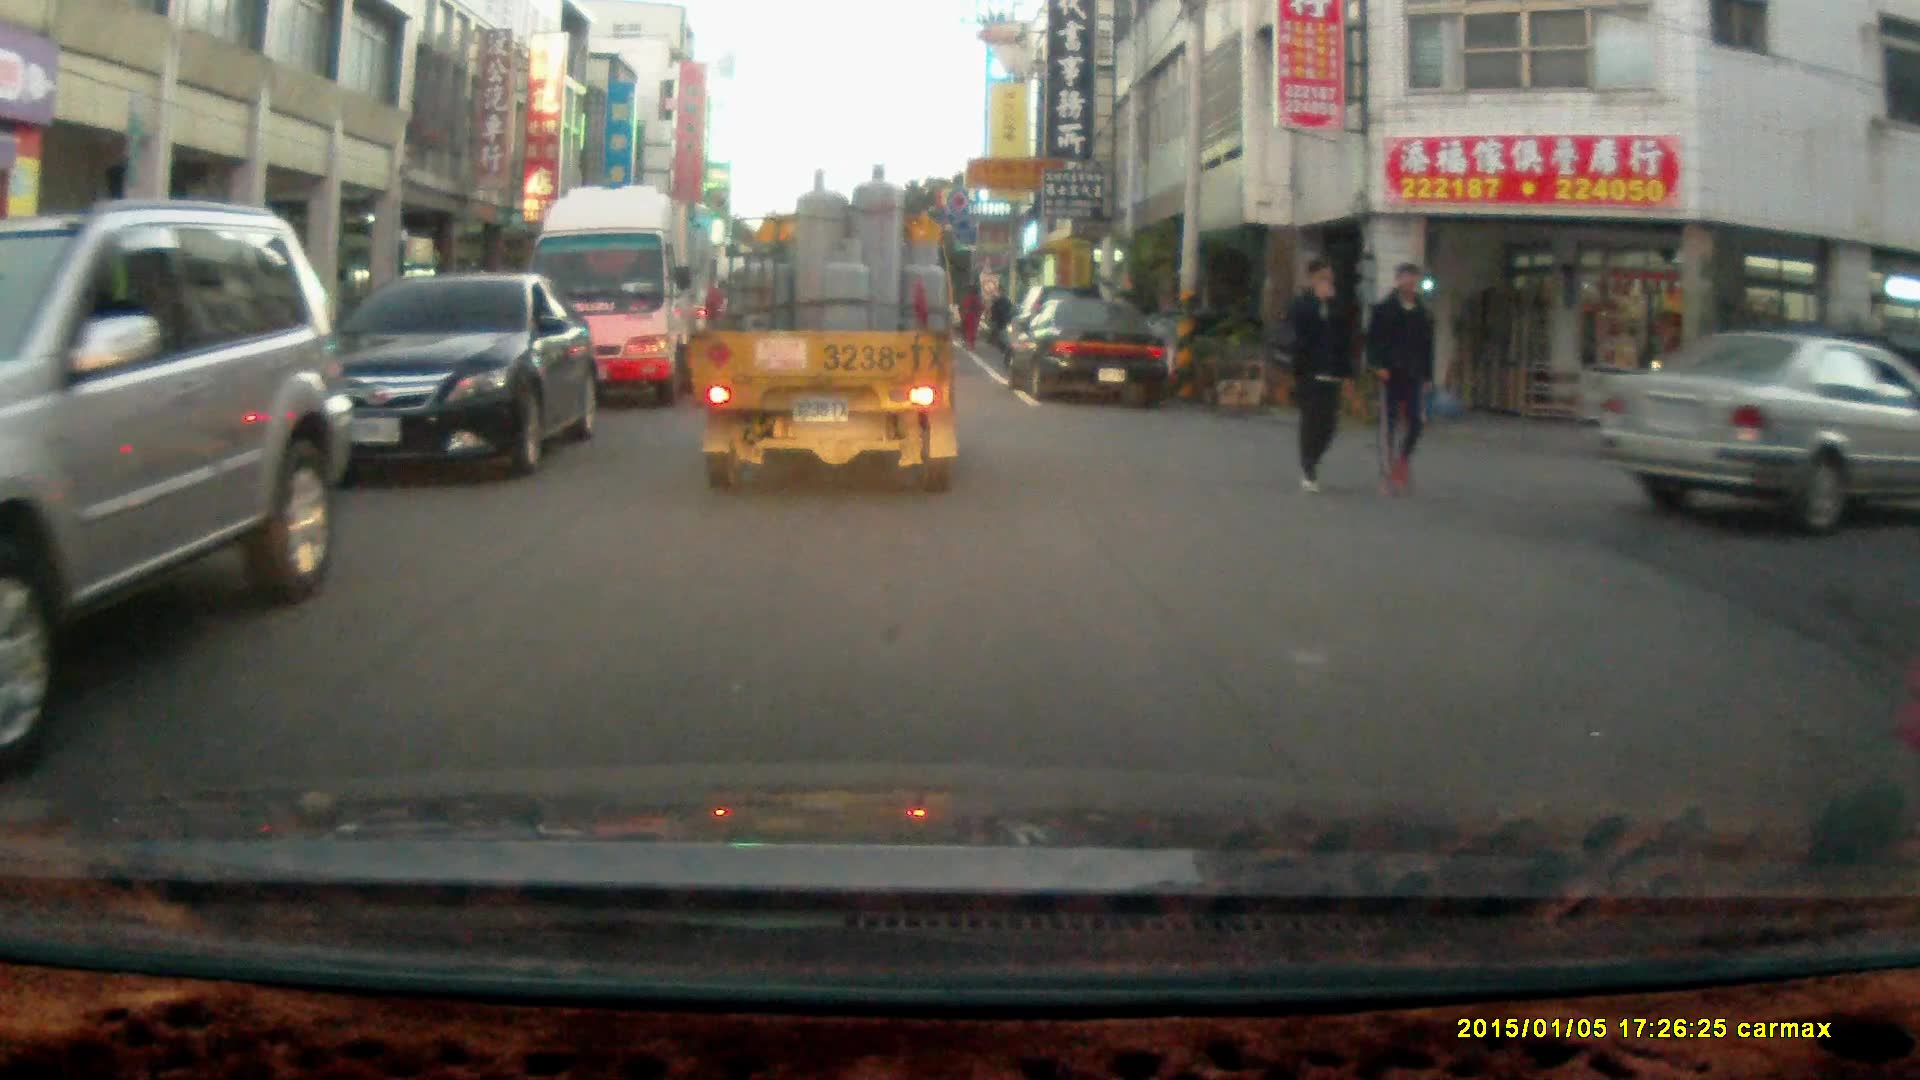pedestrian: (1362, 261, 1439, 504), (1288, 255, 1356, 495), (986, 281, 1015, 352), (956, 280, 981, 351)
vehicle: (1, 197, 363, 785), (692, 164, 965, 498), (268, 270, 605, 479), (1595, 333, 1920, 533), (523, 177, 716, 409), (1000, 294, 1171, 405)
